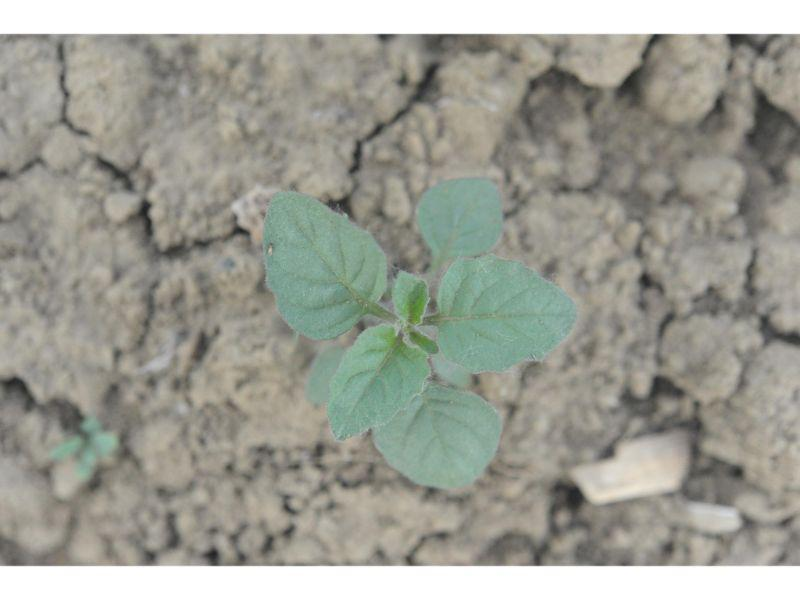nightshade: (263, 176, 578, 487)
